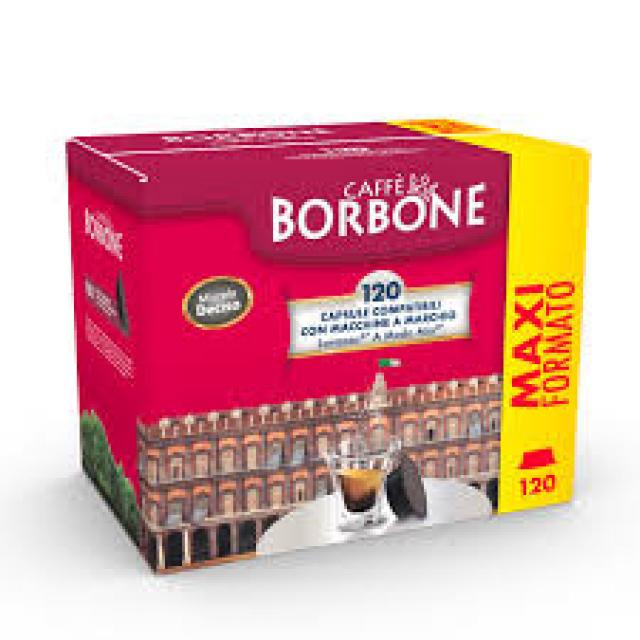Coffee: (63, 119, 592, 577)
